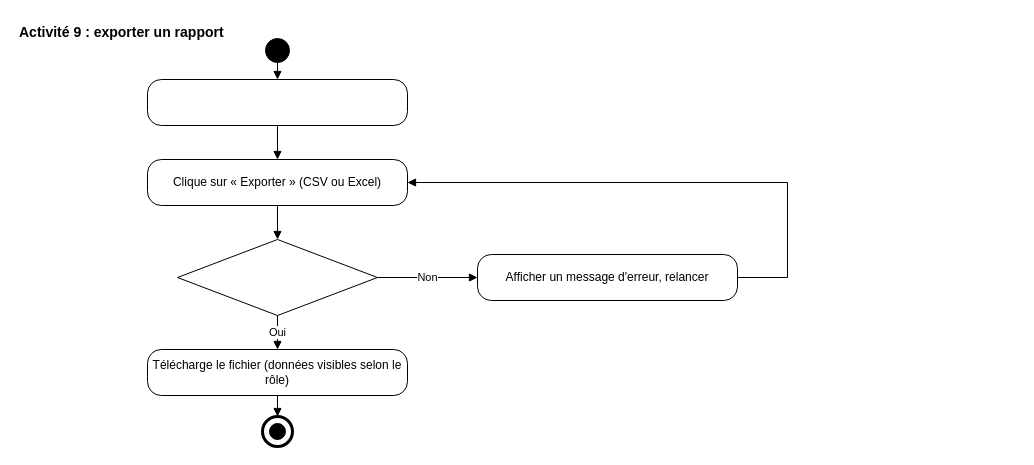
This 1034x465 diagram has some shape labels left out. Each missing label, with the centre of its shape:
Export réussi ?: the point at 277,277
La direction choisit les filtres du tableau de bord: the point at 277,102
